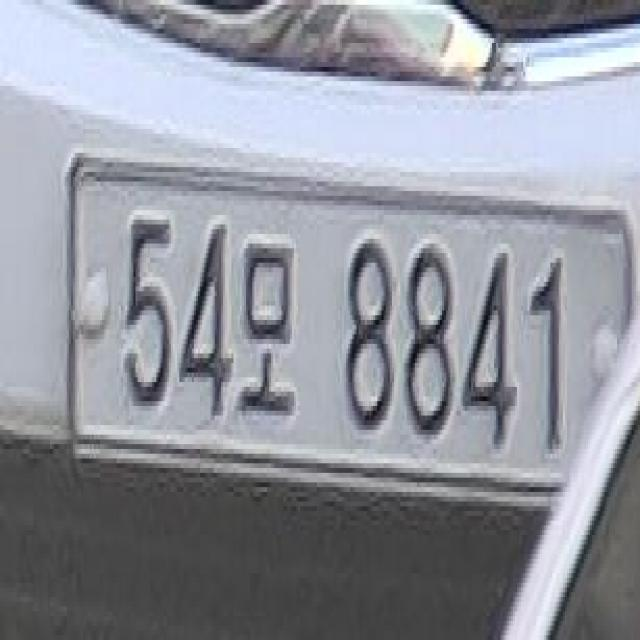1: (523, 230, 584, 482)
4: (462, 210, 532, 468), (181, 172, 240, 425)
5: (115, 186, 175, 416)
8: (398, 215, 465, 458), (344, 220, 402, 439)
license_plate: (48, 158, 638, 540)
mo: (228, 205, 302, 430)
